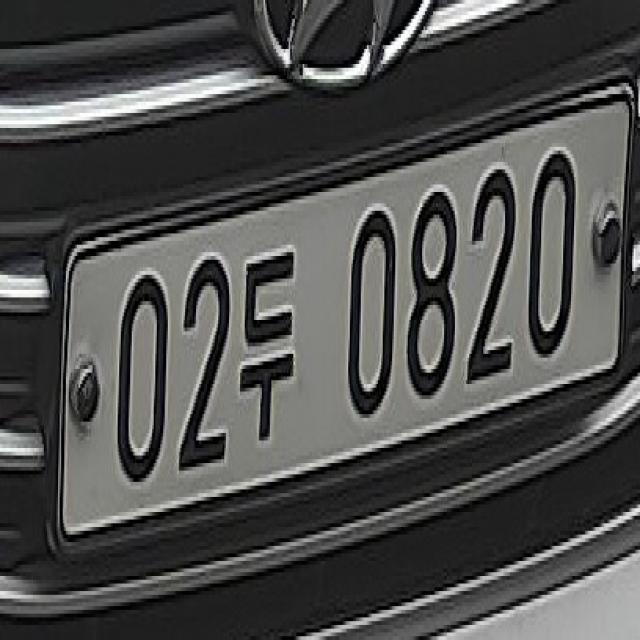0: (526, 132, 594, 366), (340, 188, 399, 438), (116, 252, 176, 486)
2: (462, 158, 520, 404), (180, 247, 230, 480)
8: (402, 171, 461, 416)
du: (236, 218, 302, 474)
license_plate: (38, 69, 637, 567)
